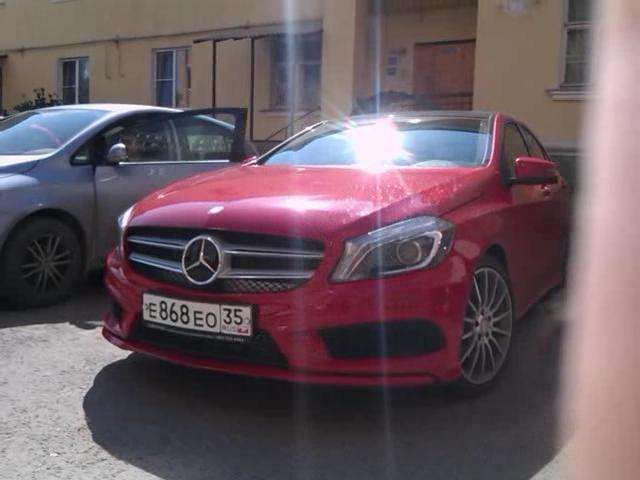license-plateSW: (144, 291, 253, 338)
